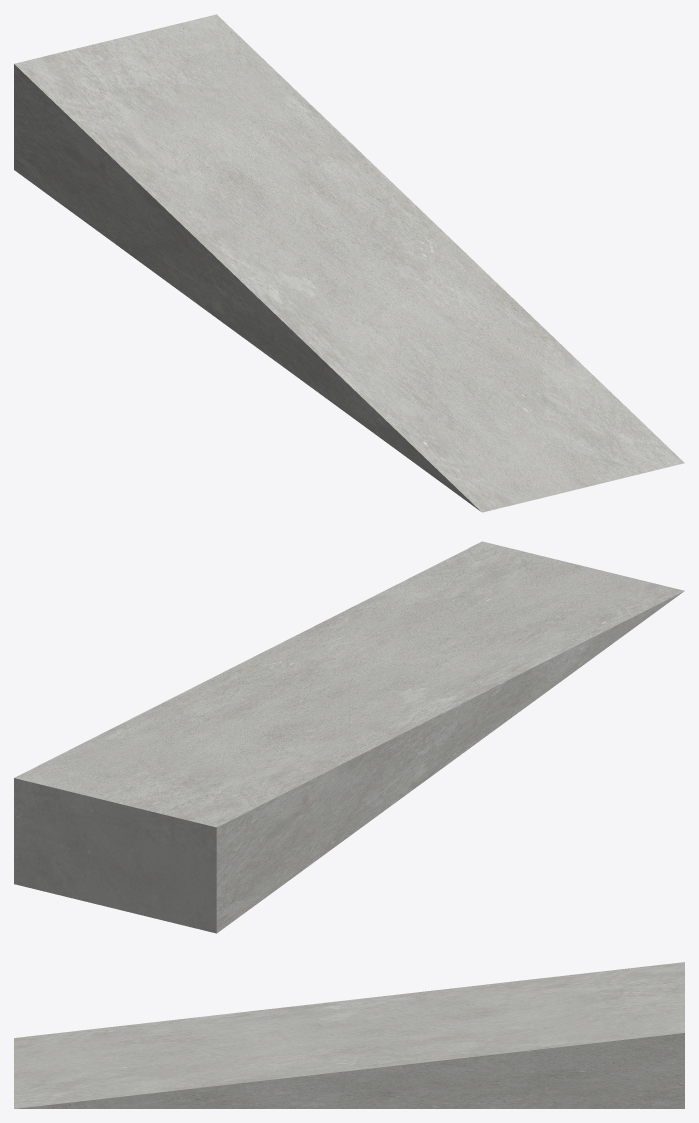
File: ramp.glb
3 renders of one model, top to bottom at view 1: azimuth 30°, elevation 25°; view 2: azimuth 150°, elevation 25°; view 3: azimuth 270°, elevation 25°, orthographic. The views are drawn at different scales.
Visible parts, largest first — view 1: Plane; view 2: Plane; view 3: Plane.
Part boxes in pixels (x1,y1,x2,y2): Plane: [14, 14, 684, 512]; Plane: [14, 541, 684, 933]; Plane: [14, 962, 684, 1108].
Size of the model in its own units: 2 by 1 by 8.
1 material, 1 textured.
